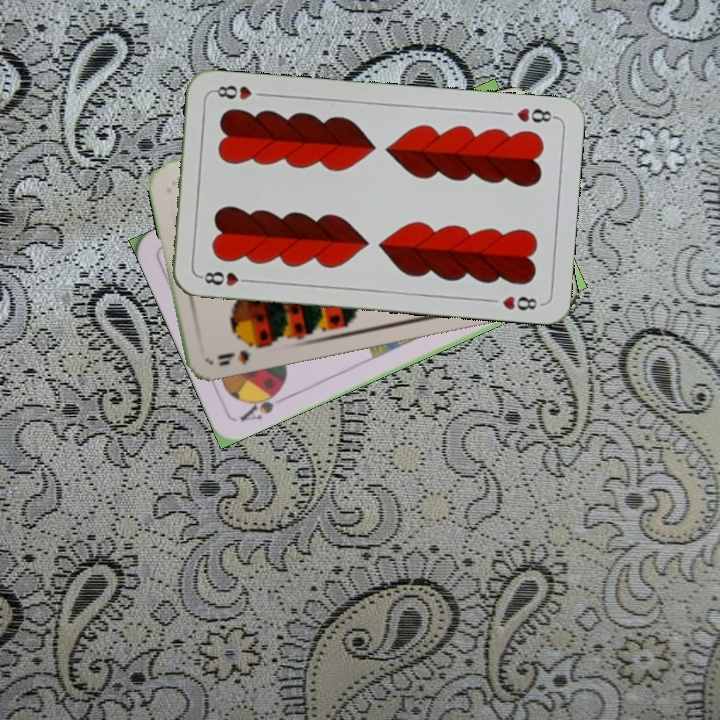H8: (196, 267, 255, 290), (513, 104, 559, 125)
S9: (214, 338, 266, 368)
SA: (235, 383, 290, 424)
